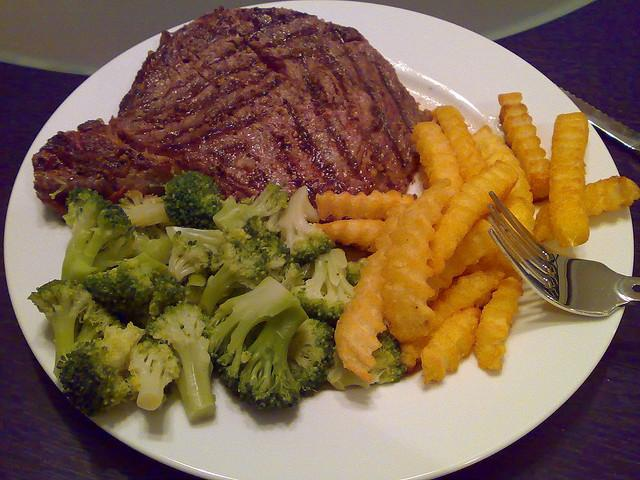broccoli: (202, 276, 310, 410), (244, 185, 336, 273), (61, 186, 136, 293), (148, 304, 216, 422), (27, 278, 92, 380), (85, 252, 168, 329), (199, 238, 271, 316), (56, 342, 130, 416), (327, 330, 407, 392), (292, 248, 356, 320), (125, 337, 182, 411), (212, 181, 290, 230), (162, 170, 224, 230), (286, 319, 336, 393), (168, 230, 212, 282), (117, 190, 168, 227), (165, 227, 223, 255), (126, 231, 173, 264), (345, 258, 368, 286)
